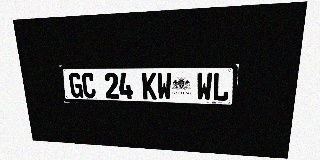2: (104, 73, 119, 99)
4: (118, 73, 133, 99)
C: (81, 73, 96, 98)
G: (68, 73, 83, 98)
K: (142, 72, 157, 100)
L: (212, 72, 230, 101)
W: (196, 72, 213, 101), (157, 72, 172, 100)
